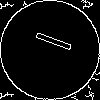I: (25, 25, 73, 54)
